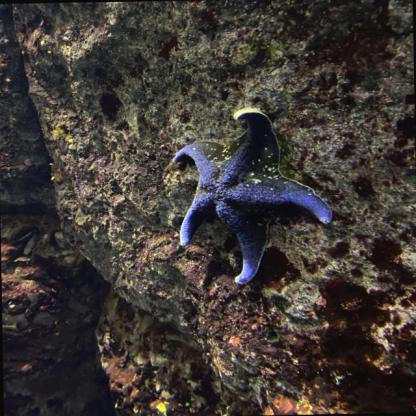starfish: (171, 107, 333, 285)
